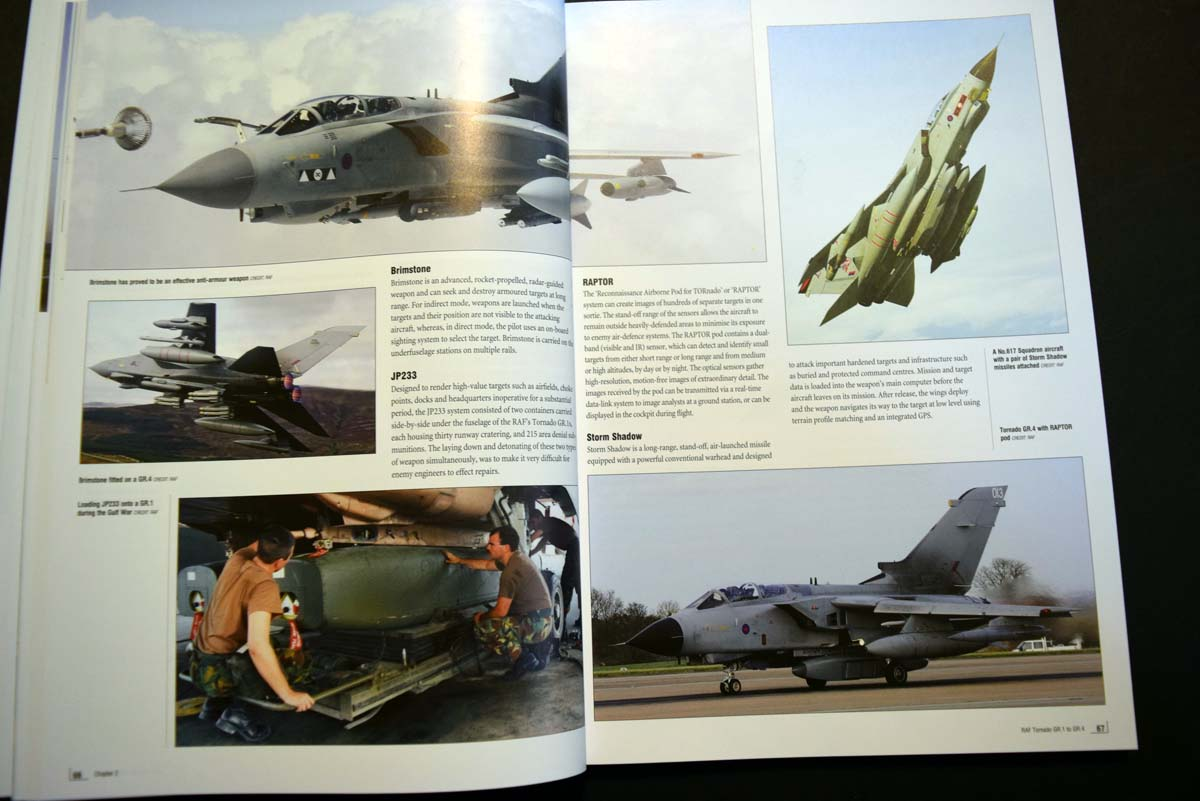Tornado: (118, 49, 742, 229), (606, 484, 1086, 696), (797, 31, 1006, 328), (85, 301, 369, 456)
